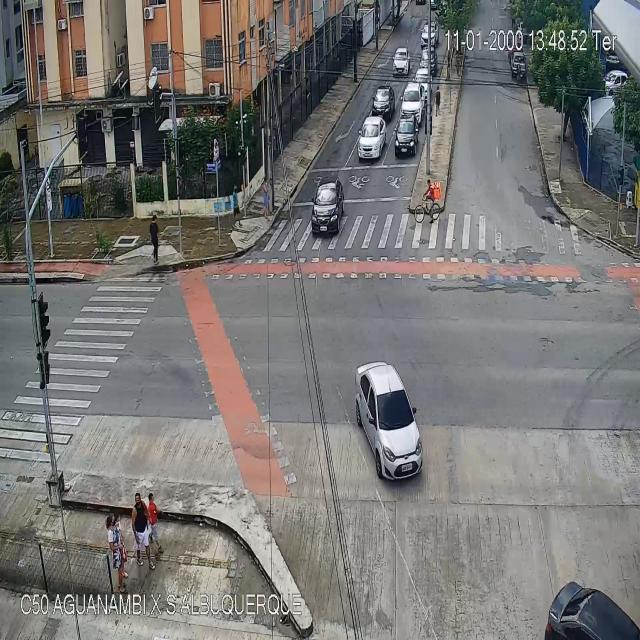Car: (522, 534, 640, 640), (356, 359, 424, 483), (311, 184, 346, 232), (358, 119, 386, 160), (401, 83, 425, 122), (395, 118, 416, 156), (373, 89, 395, 115), (419, 48, 437, 78), (414, 69, 432, 98), (421, 23, 438, 50), (511, 51, 526, 79), (393, 47, 409, 73)
Motorcycle: (515, 60, 523, 83)
